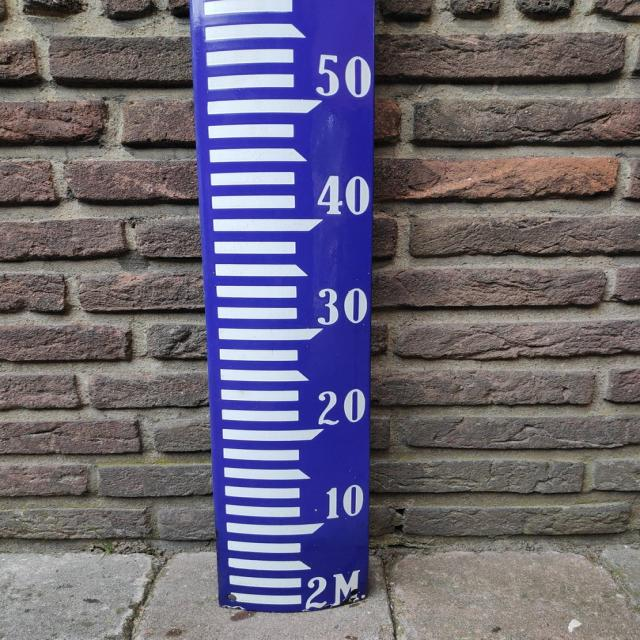10: (322, 479, 372, 525)
20: (312, 382, 370, 429)
30: (310, 281, 368, 330)
40: (312, 168, 371, 221)
50: (314, 46, 370, 102)
staff: (191, 0, 372, 609)
